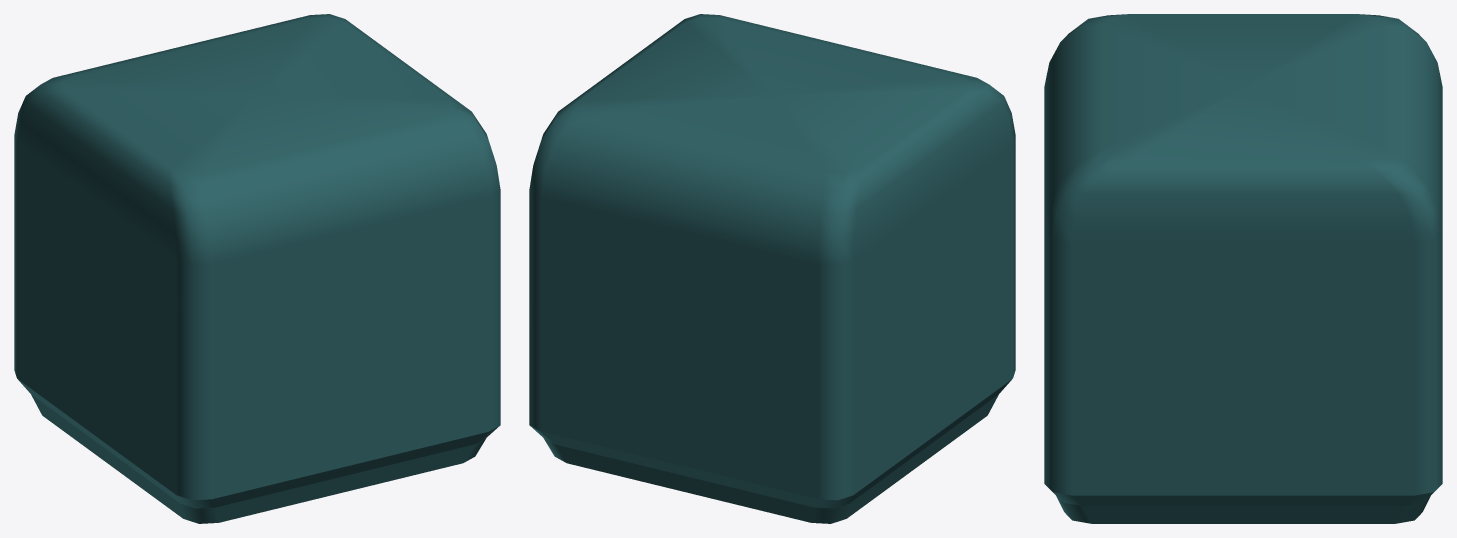
File: machine-mill-unit.glb
3 renders of one model, left to right at view 1: azimuth 30°, elevation 25°; view 2: azimuth 150°, elevation 25°; view 3: azimuth 270°, elevation 25°, orthographic. The views are drawn at different scales.
Parts seen in each view (by area): view 1: Machine-mill-unitBody; view 2: Machine-mill-unitBody; view 3: Machine-mill-unitBody.
Boxes of the visible parts, box(x1,y1,x2,y2) form: Machine-mill-unitBody: box(14, 14, 500, 523); Machine-mill-unitBody: box(529, 14, 1015, 523); Machine-mill-unitBody: box(1044, 14, 1442, 523).
Size of the model in its own units: 1 by 1 by 1.
